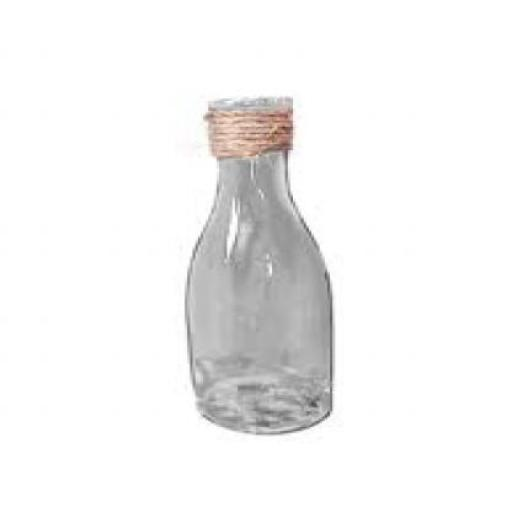glass: (188, 146, 335, 431)
